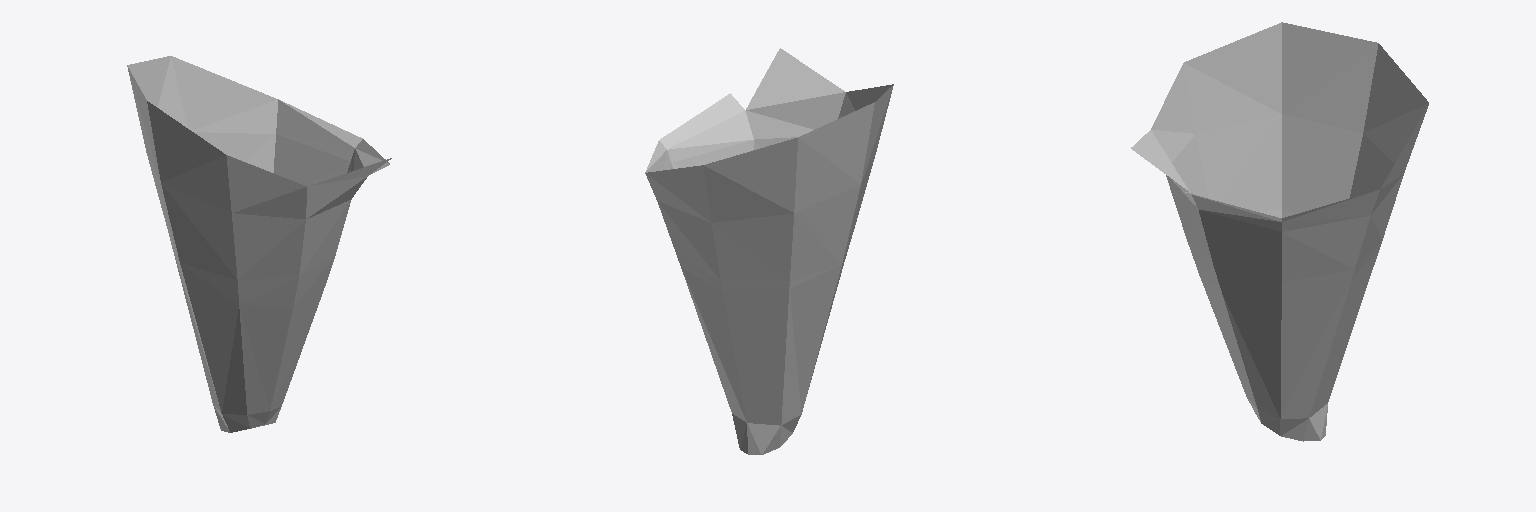
File: pierna_izq.obj
3 views of the same model, side by side, from view 1: azimuth 30°, elevation 25°; view 2: azimuth 150°, elevation 25°; view 3: azimuth 270°, elevation 25° (orthographic).
Visible parts, largest first — view 1: Body_jinsters_padoru.001; view 2: Body_jinsters_padoru.001; view 3: Body_jinsters_padoru.001.
Boxes of the visible parts, x1=… form: Body_jinsters_padoru.001: x1=127, y1=56, x2=391, y2=432; Body_jinsters_padoru.001: x1=645, y1=48, x2=893, y2=454; Body_jinsters_padoru.001: x1=1131, y1=22, x2=1428, y2=441.
Size of the model in its own units: 0.0651 by 0.1043 by 0.0781.